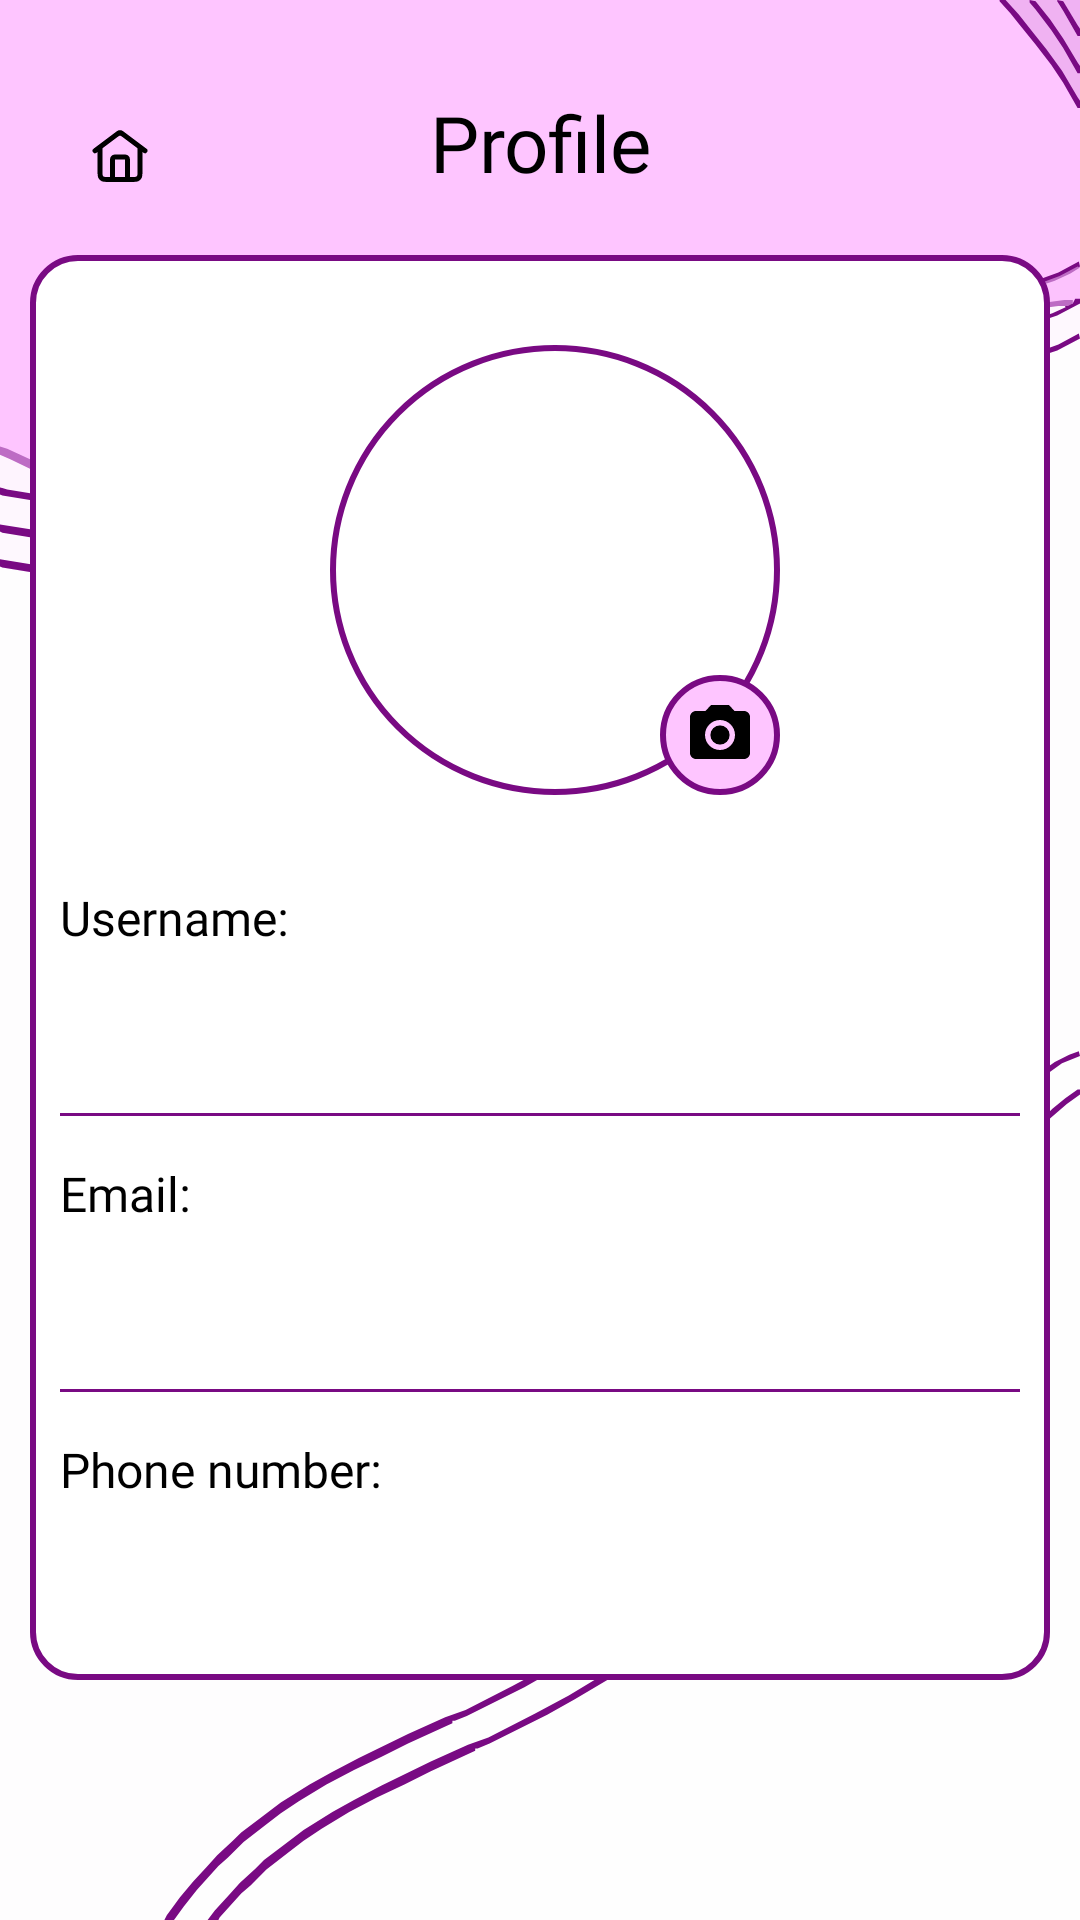

Where icons sit on this 1080 x 1920 app screen, as region(x1, y1, x2, y2):
camera: region(690, 705, 750, 759)
home: region(92, 130, 148, 182)
